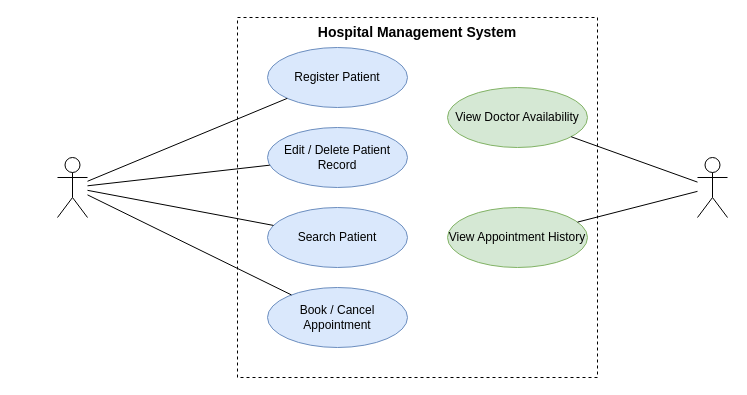
This 747x395 diagram has some shape labels left out. The centre of each missing label's shape, as x and y in pixels:
Admin / Receptionist: (x=72, y=187)
Doctor: (x=712, y=187)
